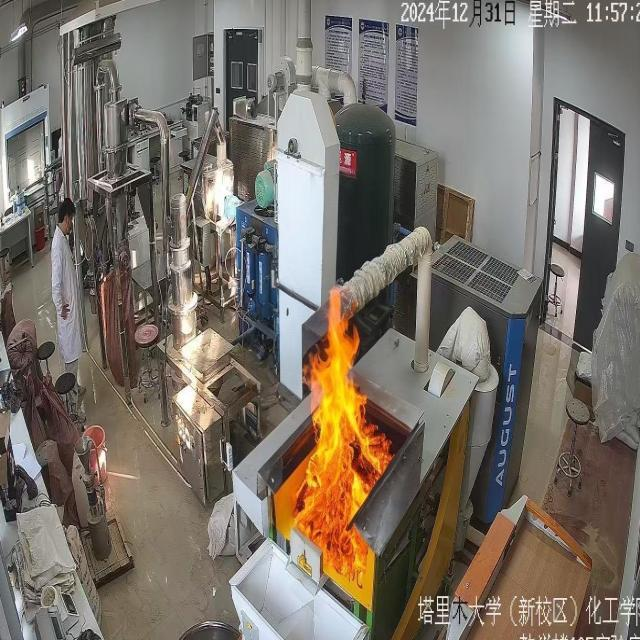smoke: (301, 288, 384, 542)
